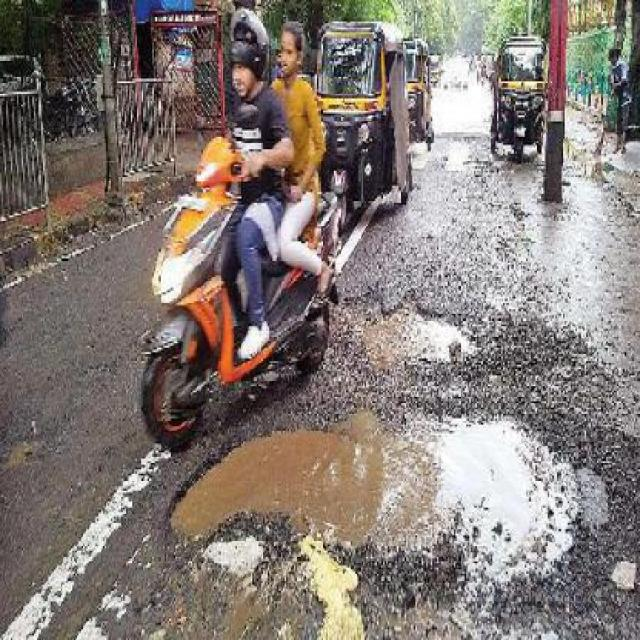Pothole: (161, 404, 584, 578), (358, 290, 480, 367)
